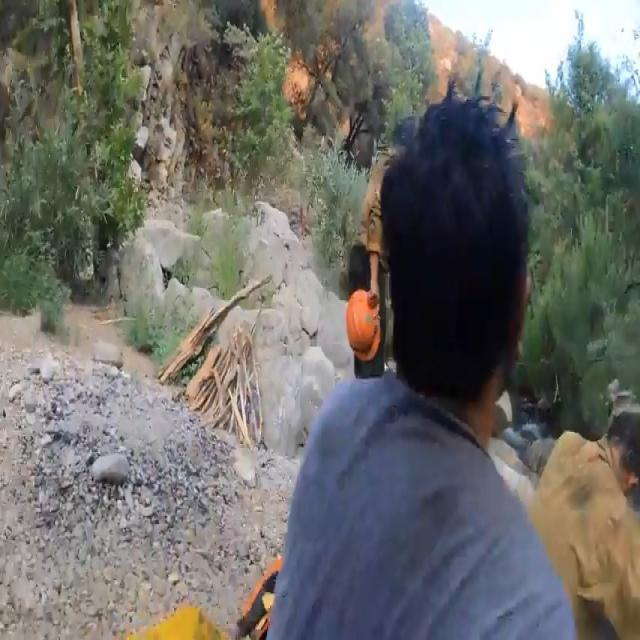Fire: (426, 2, 552, 128), (253, 0, 323, 113)
